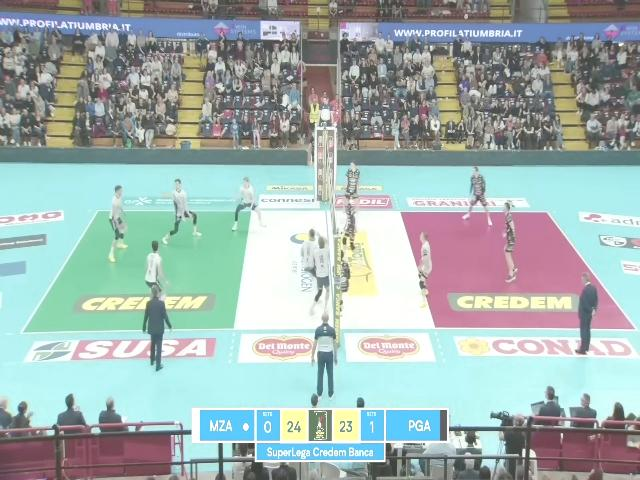volleyball court: (21, 209, 640, 333)
